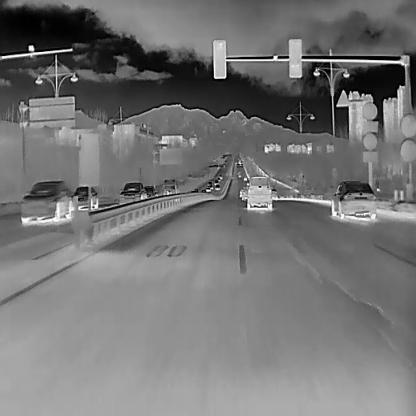car: (19, 180, 72, 224), (329, 180, 376, 220), (246, 175, 272, 211), (72, 185, 98, 211), (119, 180, 146, 205), (162, 178, 182, 199), (143, 184, 158, 198), (240, 186, 249, 202), (269, 186, 278, 202), (213, 183, 220, 190), (218, 172, 223, 179), (213, 178, 218, 184), (205, 185, 210, 191), (207, 180, 212, 186), (215, 175, 220, 180), (242, 175, 247, 180), (237, 172, 242, 177), (192, 187, 197, 192)
